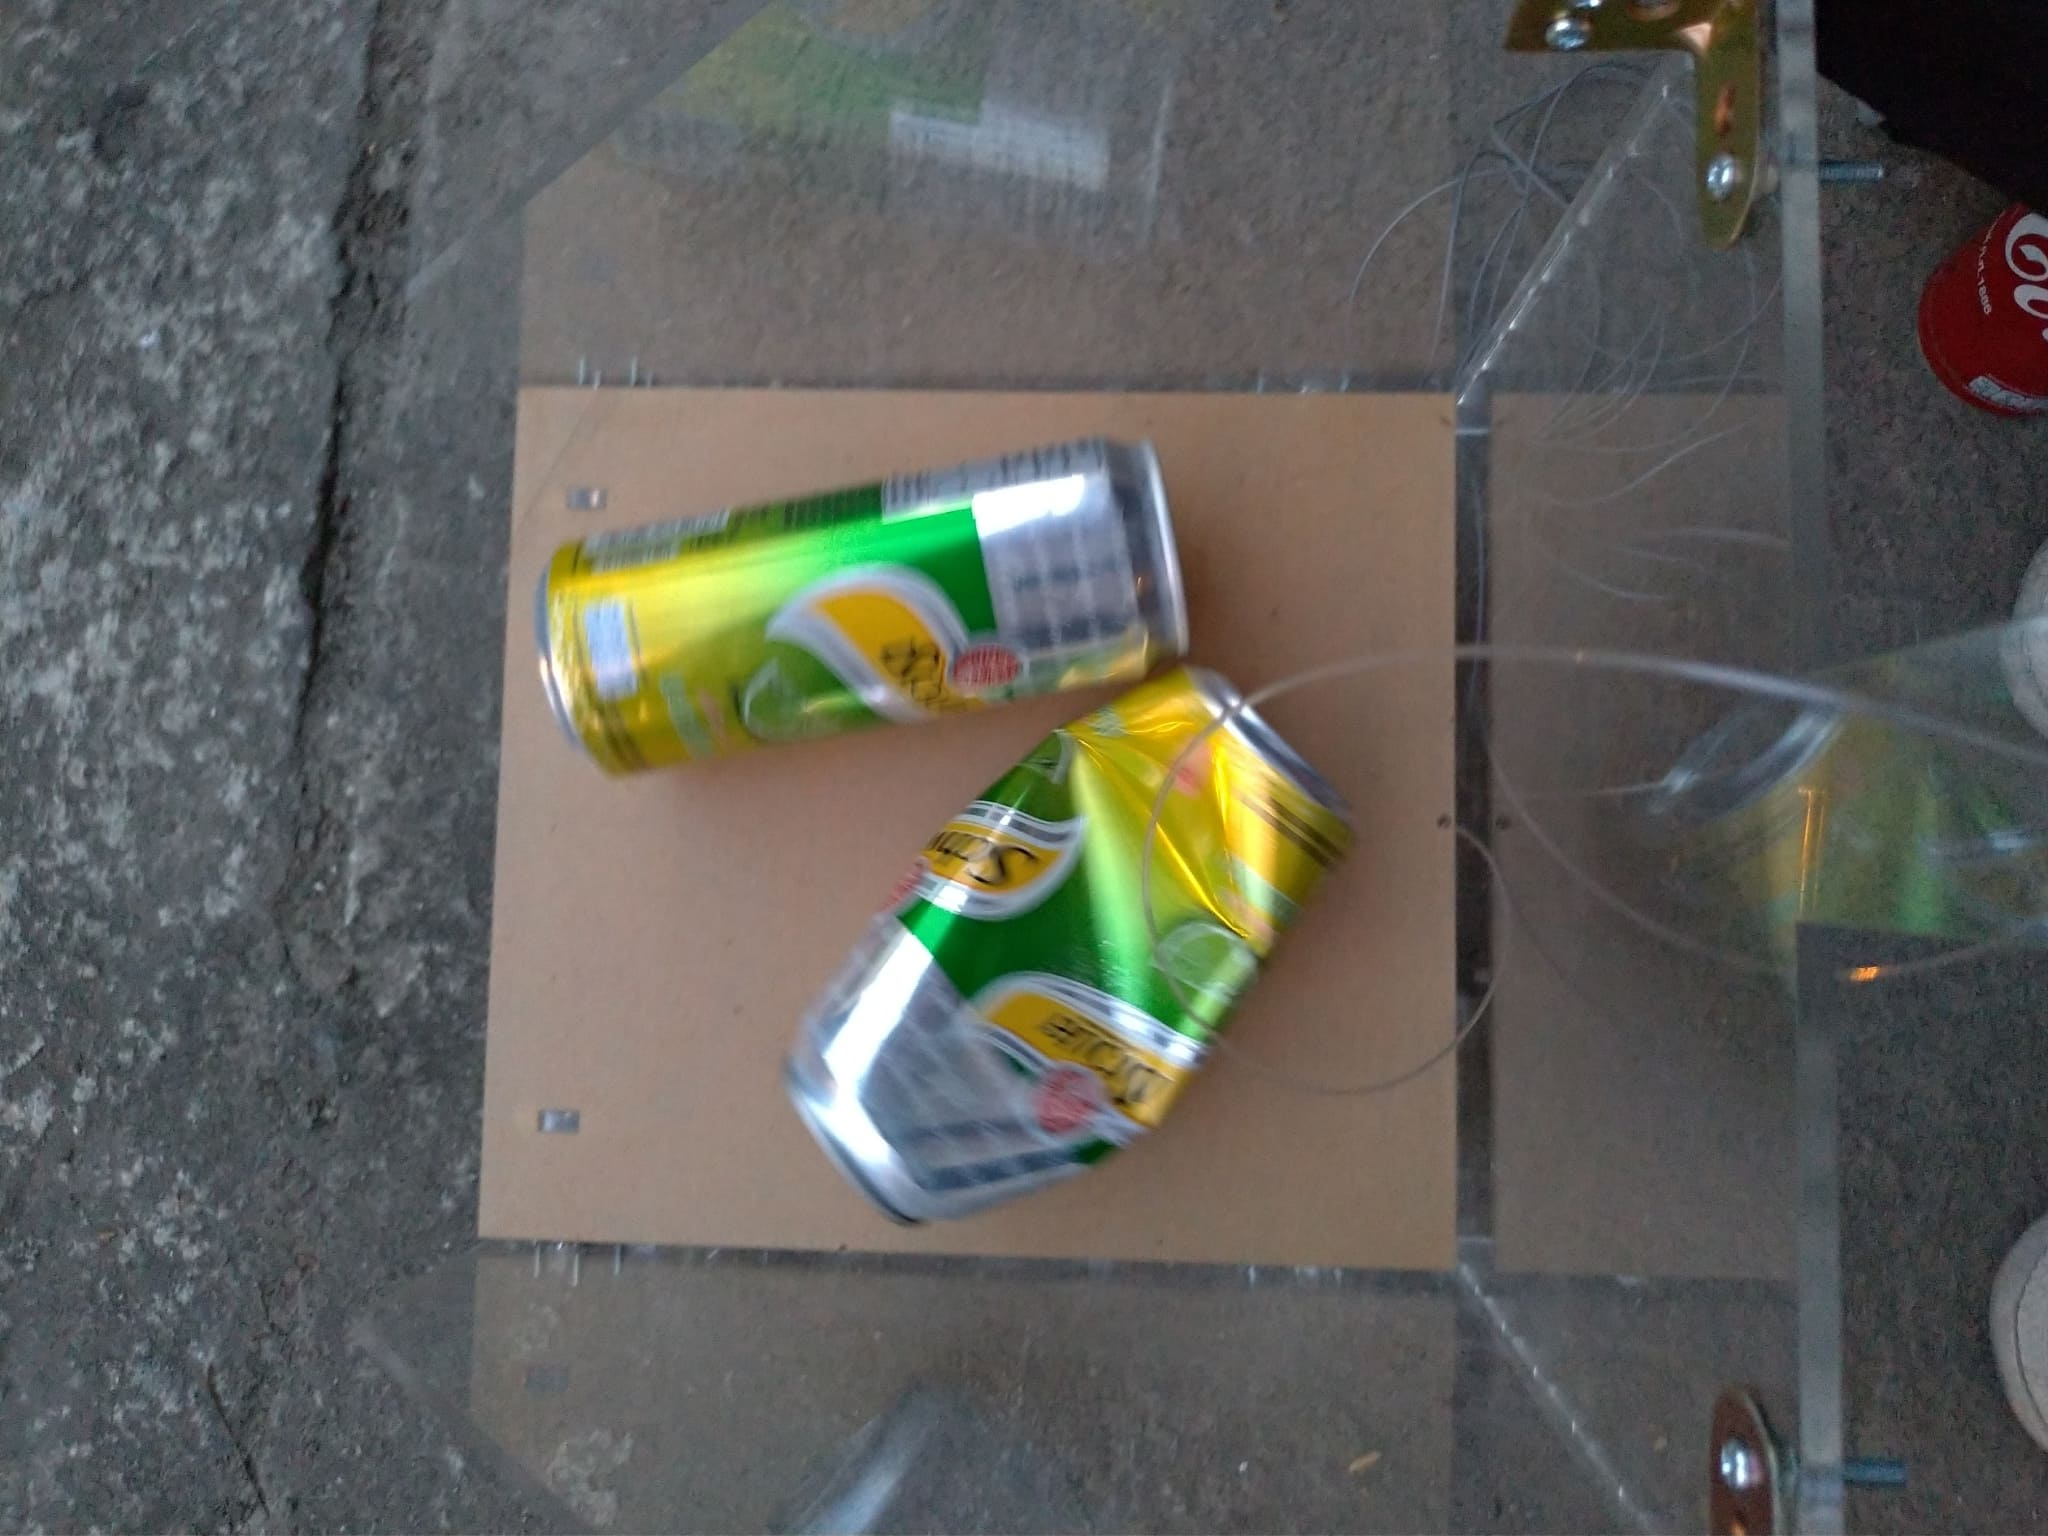AlCan: (764, 660, 1356, 1231), (540, 437, 1193, 781), (1925, 186, 2048, 419)
